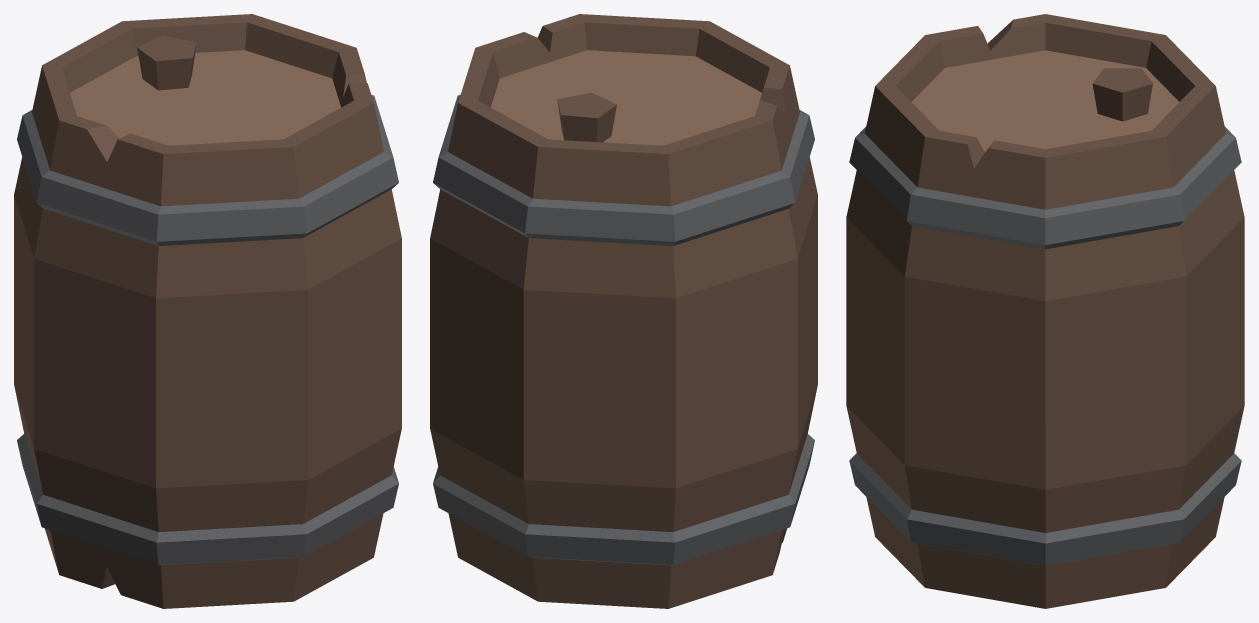
The model's file is SmallBarrel.fbx.
3 views of the same model, side by side, from view 1: azimuth 30°, elevation 25°; view 2: azimuth 150°, elevation 25°; view 3: azimuth 270°, elevation 25° (orthographic).
Visible parts, largest first — view 1: SmallBarrel; view 2: SmallBarrel; view 3: SmallBarrel.
Part boxes in pixels (x1,y1,x2,y2): SmallBarrel: (14,14,401,608); SmallBarrel: (430,14,817,608); SmallBarrel: (846,14,1244,608).
Size of the model in its own units: 0.4406 by 0.4406 by 0.5588.
